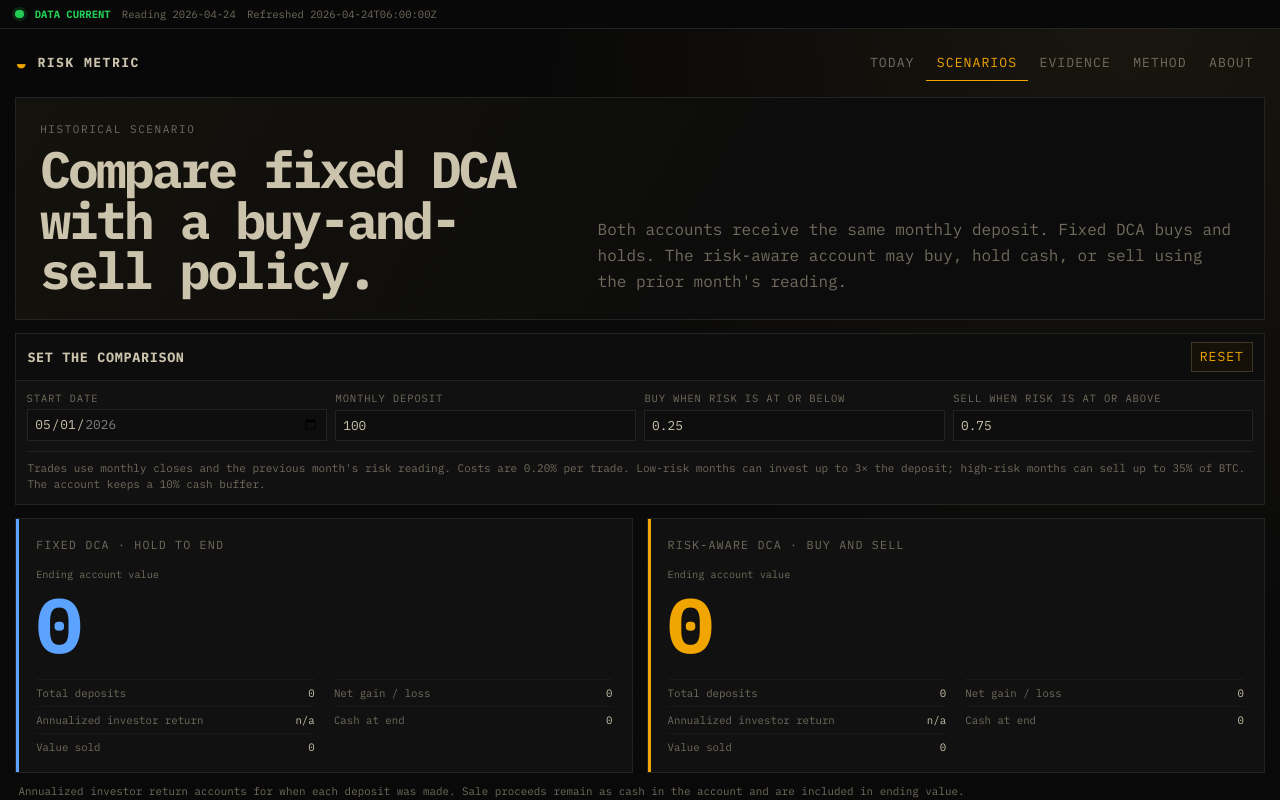
Test: App › shows the focused DCA evidence ledger with honest verdicts
The image size is (1280, 800).
Click the tab "Evidence".
click(1075, 63)  # box [1028,45,1122,81]
(page scrolled)
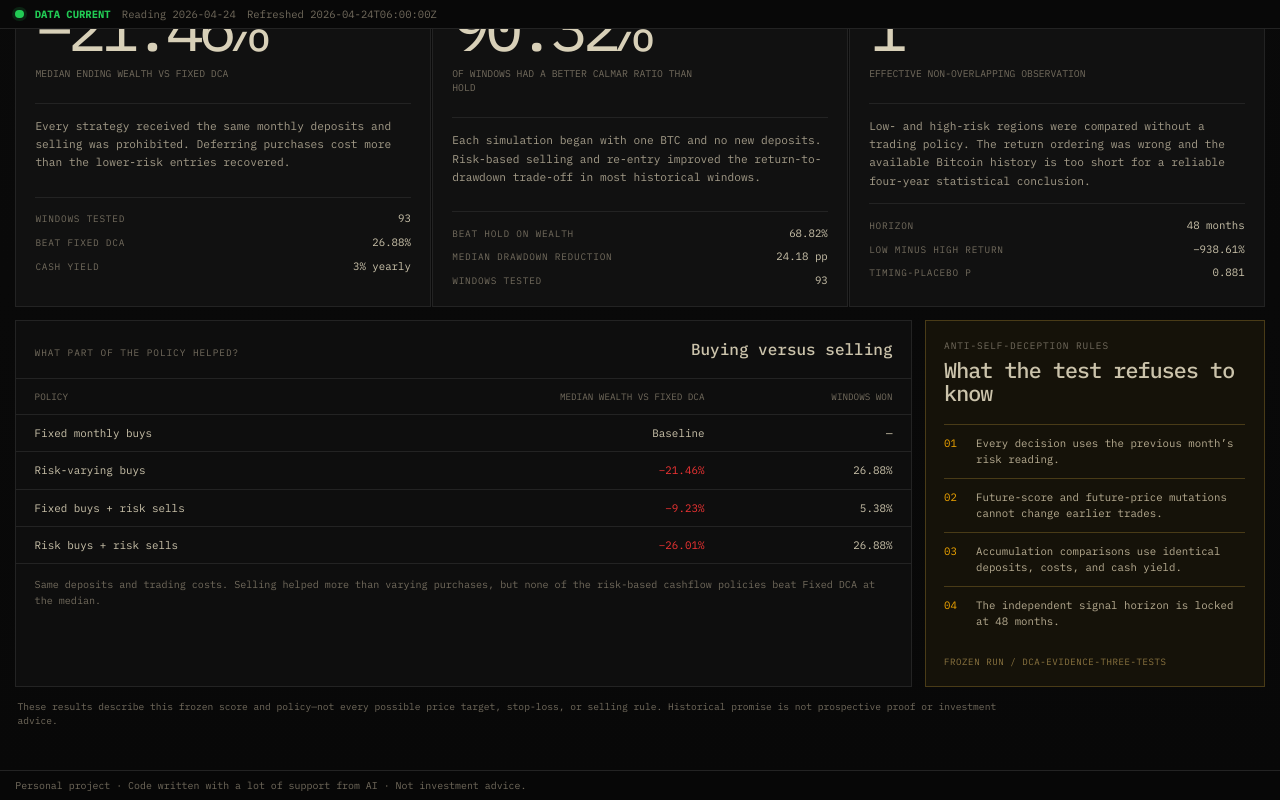
Check: the column heading "Fixed buys + risk sells" is shown, box [16,489,375,527]
Check: the list item "Every decision uses the previous month’s risk reading." is shown, box [944,424,1246,478]
